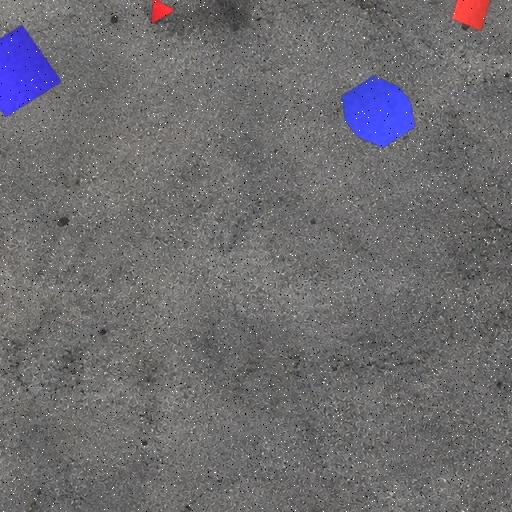BLUE_SQUARE: (0, 24, 63, 118)
RED_SQUARE: (451, 0, 491, 32)
